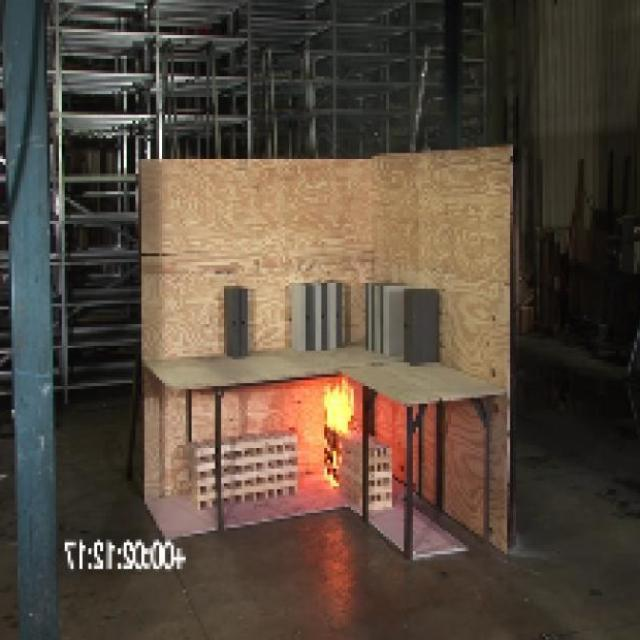smoke: (316, 367, 359, 492)
